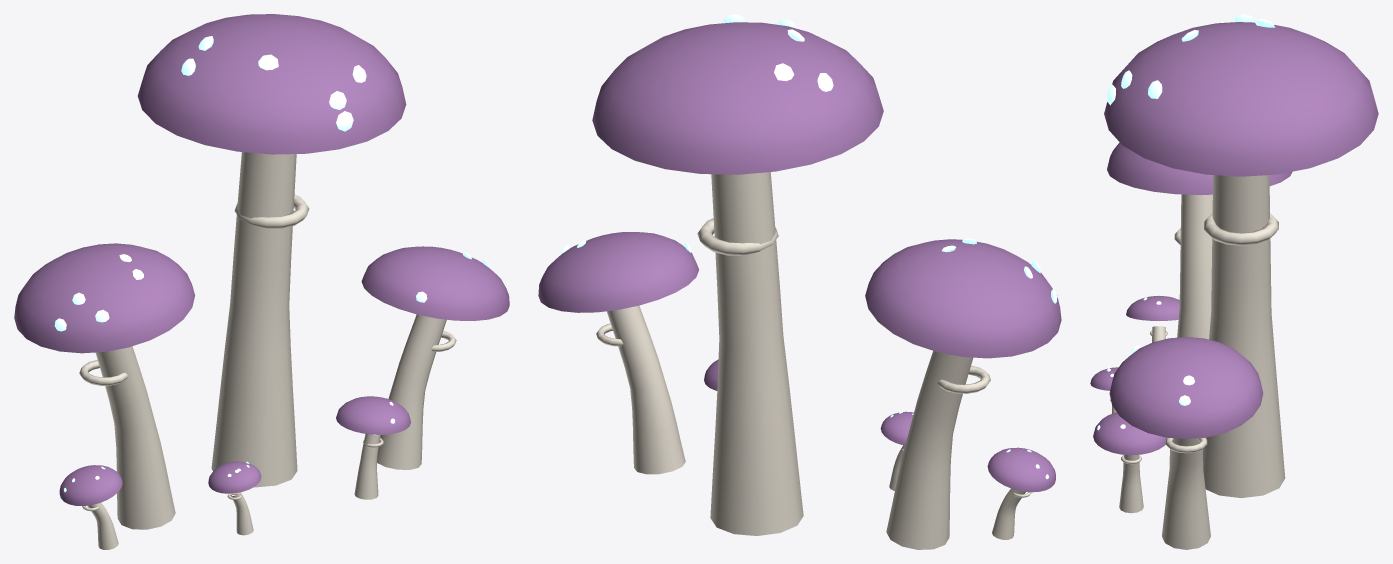
Rendered from bg_mushroom.glb.
3 views of the same model, side by side, from view 1: azimuth 30°, elevation 25°; view 2: azimuth 150°, elevation 25°; view 3: azimuth 270°, elevation 25° (orthographic). The views are drawn at different scales.
Visible parts, largest first — view 1: bg_mushroom; view 2: bg_mushroom; view 3: bg_mushroom.
Boxes of the visible parts, x1,y1,x2,y2 form: bg_mushroom: (14,14,509,549); bg_mushroom: (538,14,1061,549); bg_mushroom: (1090,14,1378,549).
Bounding box in the file's own units: 2 × 1.79 × 1.05.
